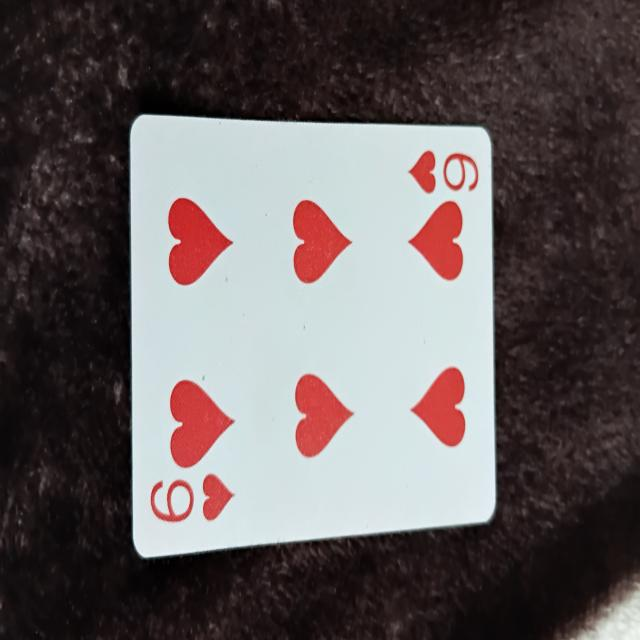6H: (126, 108, 500, 542)
